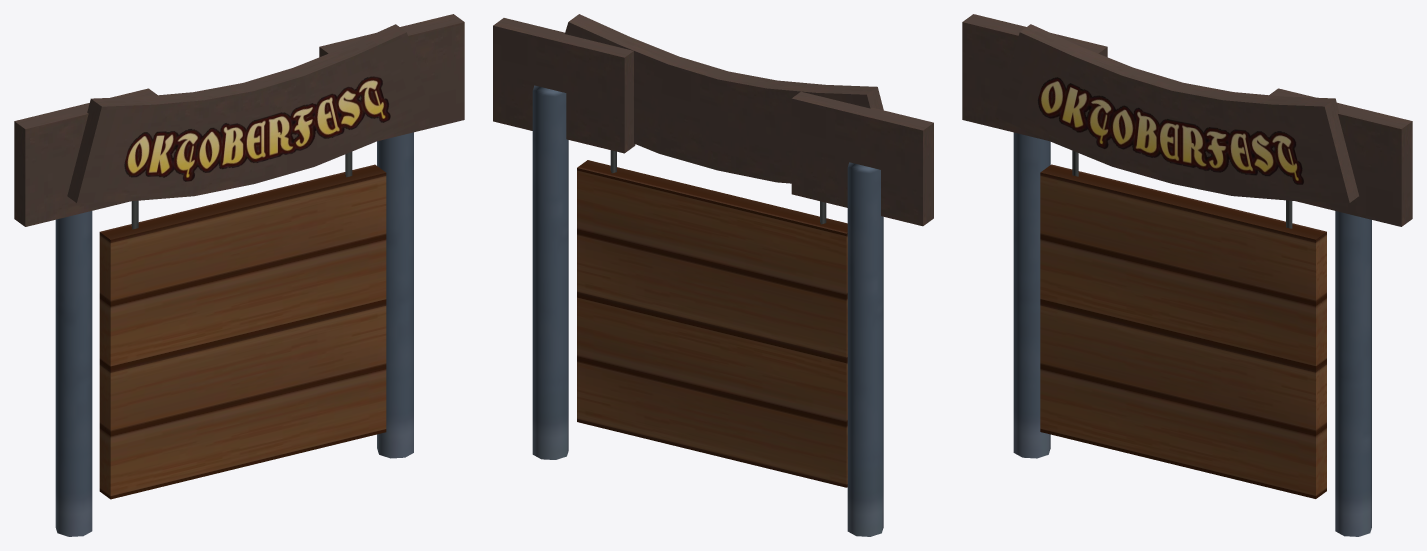
Rendered from signbook.glb.
3 renders of one model, left to right at view 1: azimuth 30°, elevation 25°; view 2: azimuth 150°, elevation 25°; view 3: azimuth 330°, elevation 25°, orthographic. The views are drawn at different scales.
Visible parts, largest first — view 1: Signbook; view 2: Signbook; view 3: Signbook.
Part boxes in pixels (<box>): Signbook: <box>14,14,464,536</box>; Signbook: <box>493,14,933,536</box>; Signbook: <box>962,14,1412,536</box>.
Size of what is drawn, in the model's own units: 2.4 by 2.27 by 0.3016.
4 materials, 4 textured.
